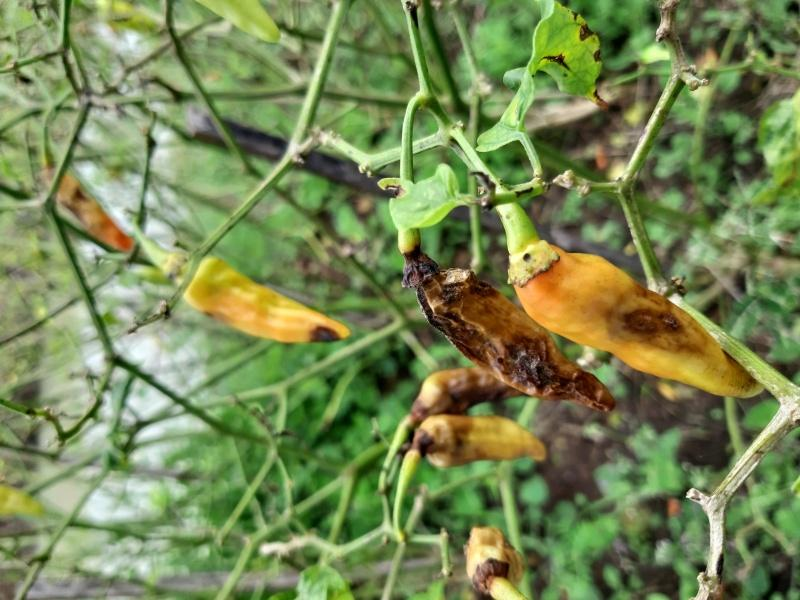antraknosa: (518, 249, 760, 396), (416, 264, 616, 409), (184, 255, 350, 346), (416, 412, 547, 470), (416, 364, 516, 418), (464, 524, 525, 592)
